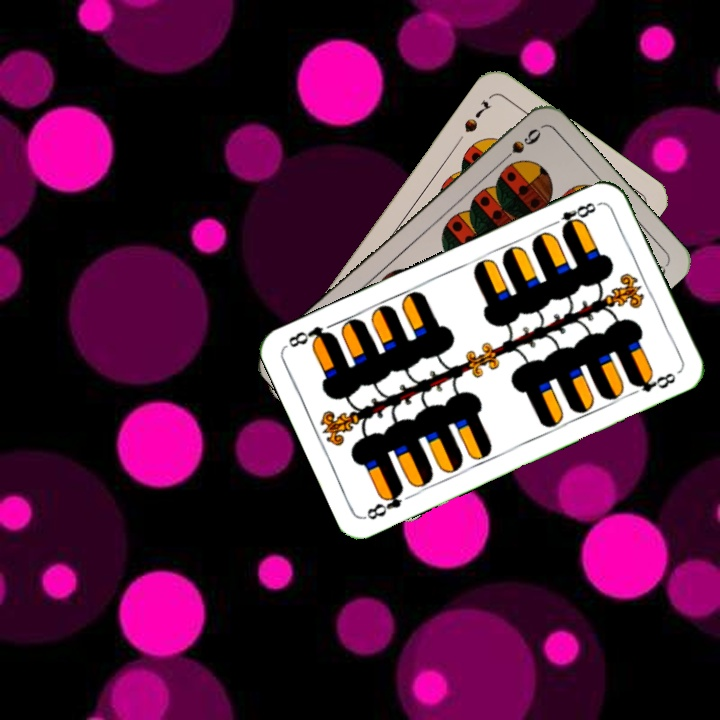E8: (546, 198, 602, 234), (361, 483, 407, 523)
S7: (460, 96, 494, 136)
S9: (495, 124, 544, 168)
